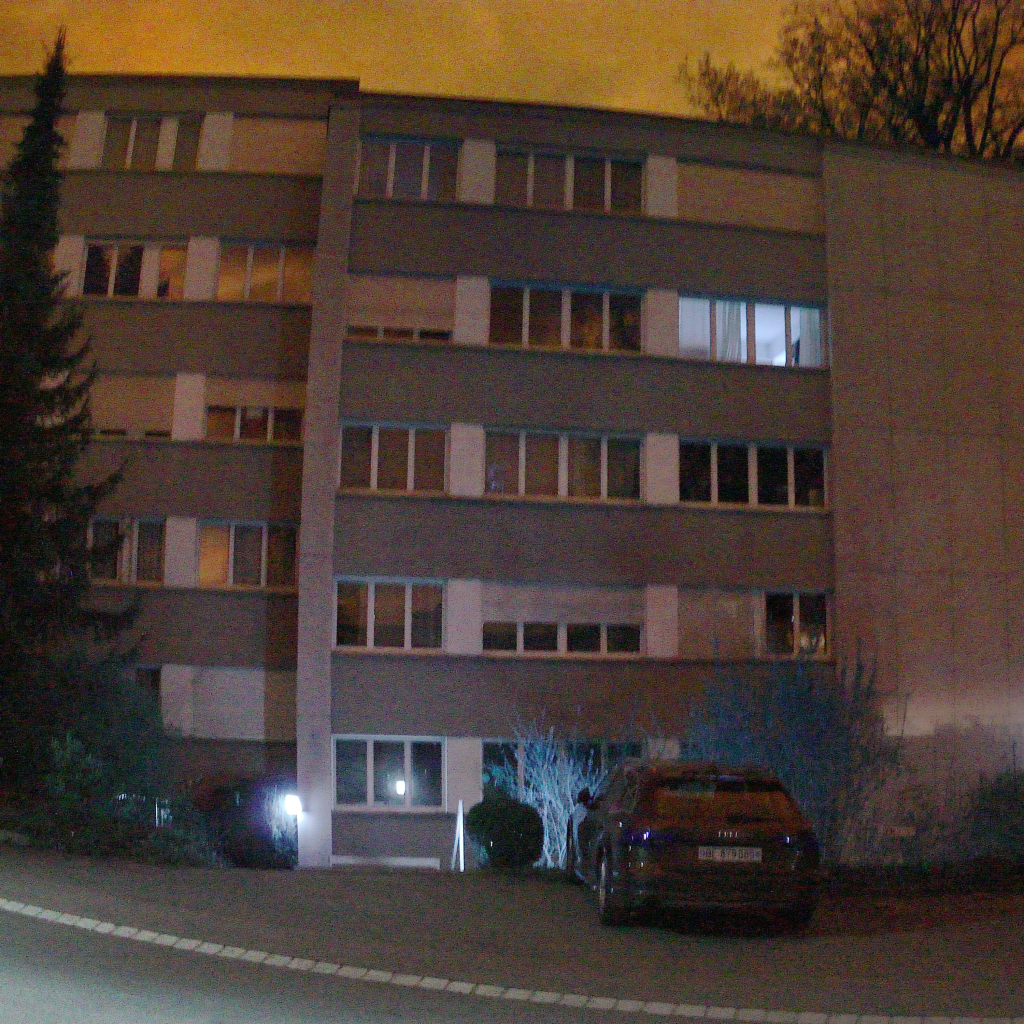glass panel: (373, 741, 406, 805), (410, 742, 442, 806), (373, 583, 405, 647), (485, 432, 518, 494), (335, 739, 366, 804), (525, 435, 558, 496), (790, 307, 824, 366), (336, 582, 367, 646), (607, 439, 640, 499), (414, 429, 445, 492), (411, 585, 442, 648), (377, 427, 408, 490), (339, 426, 371, 487), (489, 286, 522, 345), (679, 297, 710, 359), (568, 437, 600, 497), (232, 525, 263, 586), (528, 290, 561, 347), (754, 303, 784, 365), (716, 300, 746, 362), (90, 520, 121, 580), (482, 740, 517, 793), (199, 524, 229, 585), (717, 444, 748, 503), (392, 141, 424, 198), (281, 246, 313, 303), (570, 292, 602, 349), (267, 525, 296, 587), (426, 143, 457, 201), (680, 442, 710, 501), (359, 138, 389, 197), (495, 151, 527, 206), (794, 448, 824, 506), (609, 295, 640, 351), (532, 154, 564, 208), (757, 448, 787, 505), (798, 594, 826, 655), (573, 156, 604, 211), (217, 245, 248, 300), (248, 246, 279, 301), (135, 522, 163, 582), (765, 594, 793, 654), (83, 245, 116, 295), (130, 117, 160, 170), (611, 160, 641, 213), (102, 115, 131, 169), (173, 116, 201, 170), (113, 245, 143, 295), (157, 246, 185, 299), (272, 408, 302, 442), (239, 407, 268, 441), (523, 622, 557, 651), (206, 406, 235, 440), (566, 623, 599, 652), (483, 622, 516, 651), (606, 624, 640, 652)
